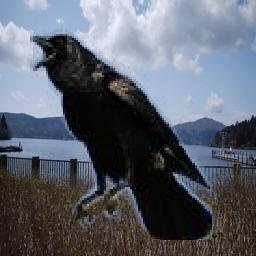Crow: (31, 30, 214, 241)
